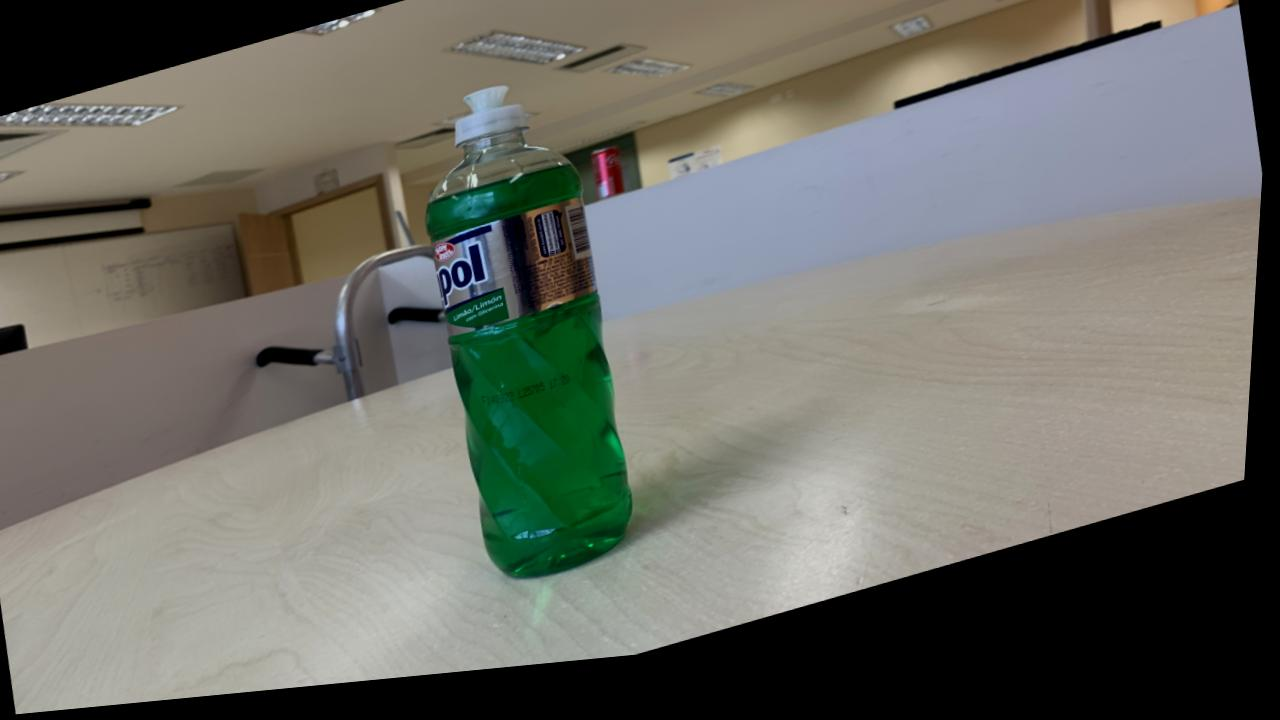Coke-Drinks: (595, 159, 626, 213)
Detergent-Cleanup_Items: (428, 113, 643, 593)
